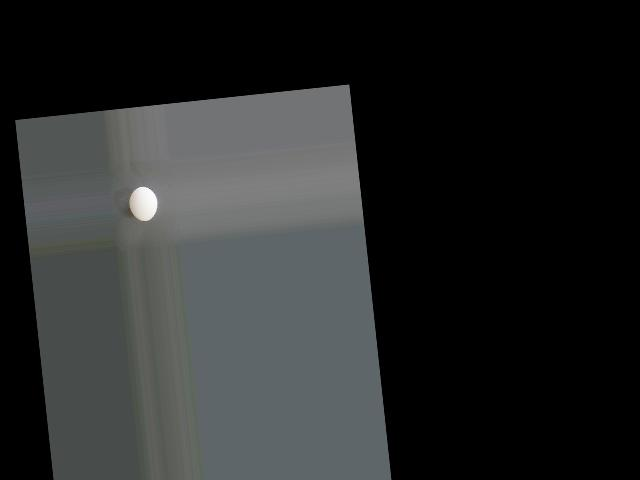egg: (127, 186, 159, 223)
